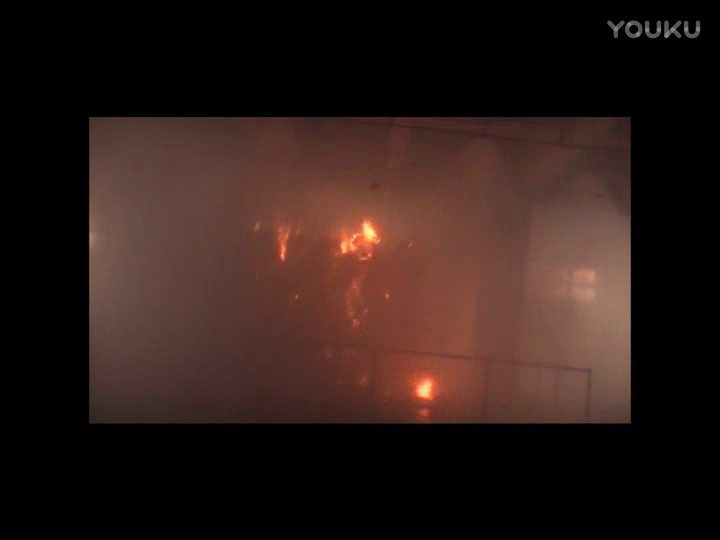fire: (335, 209, 382, 274), (410, 374, 437, 402)
